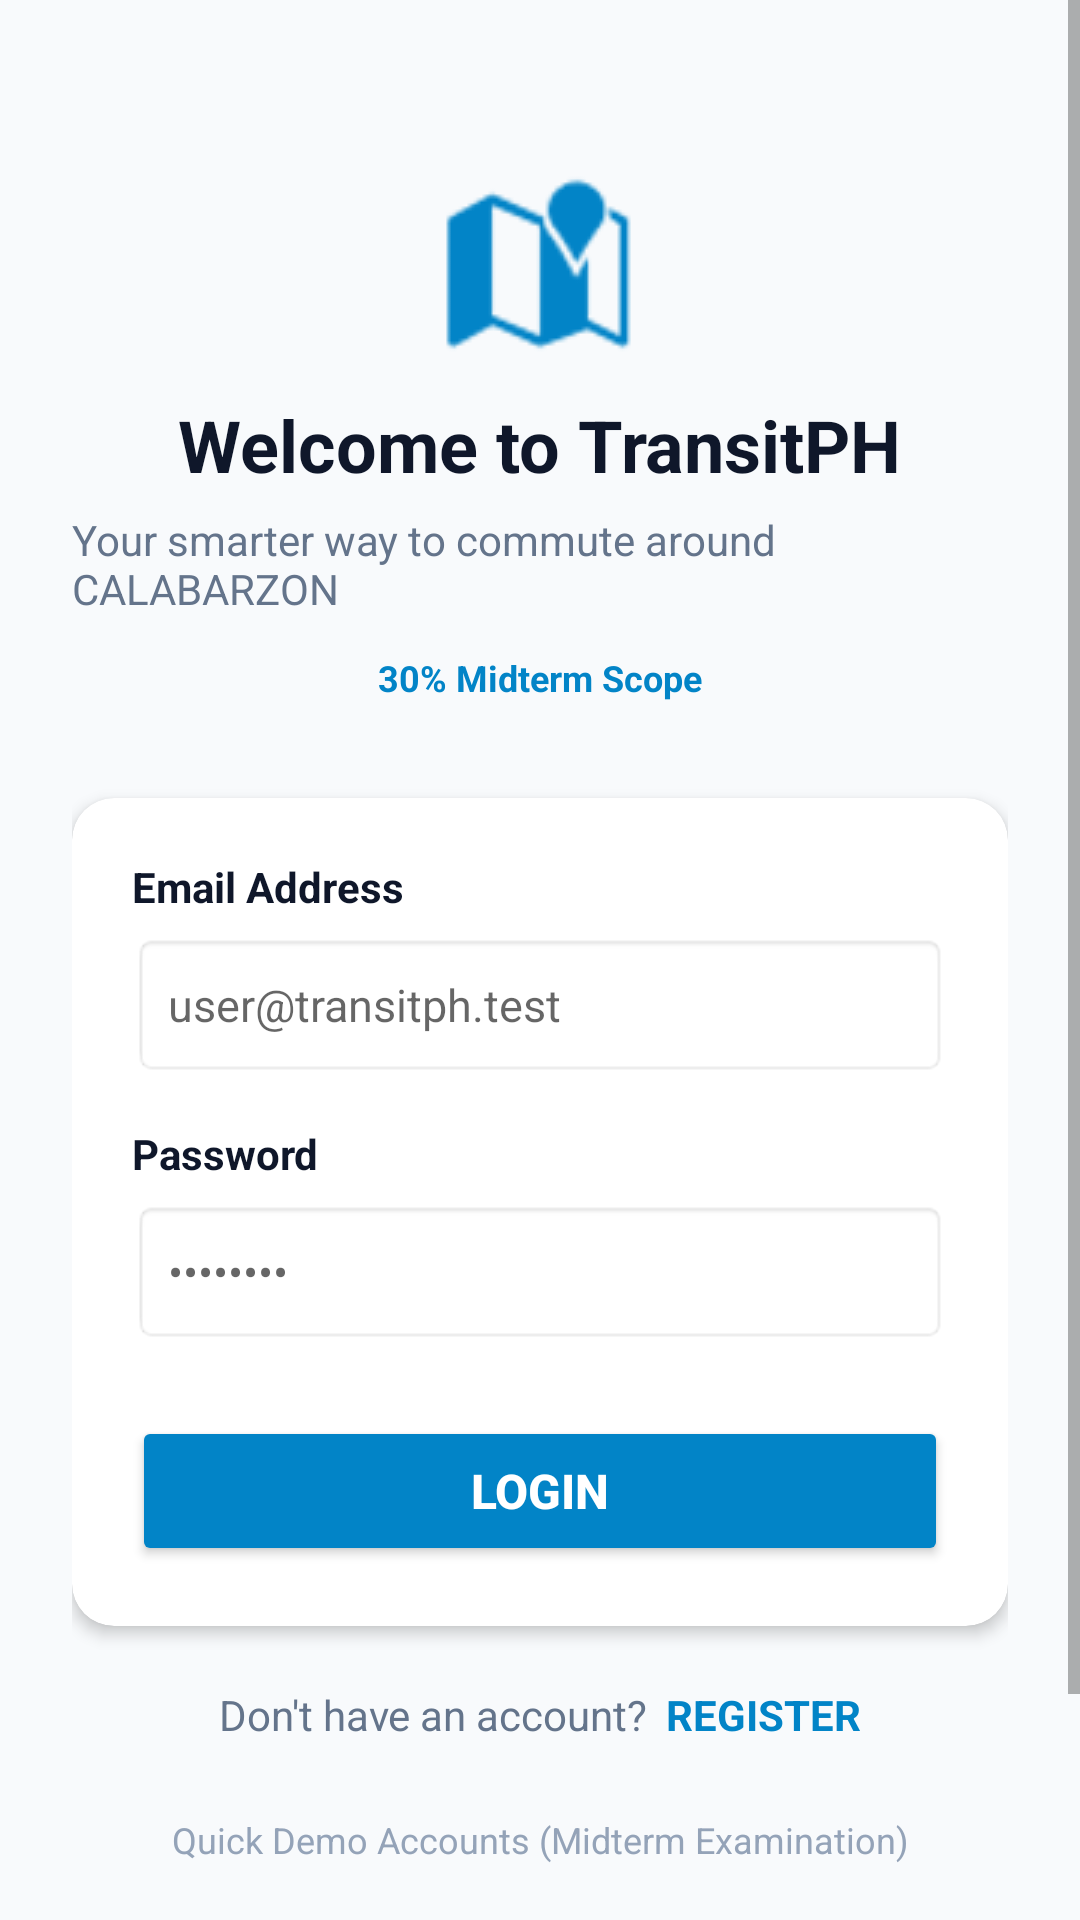

Icons on this 1080×1920 Android screen, each with the point to tap as (x=x, y=y):
map: (x=538, y=264)
